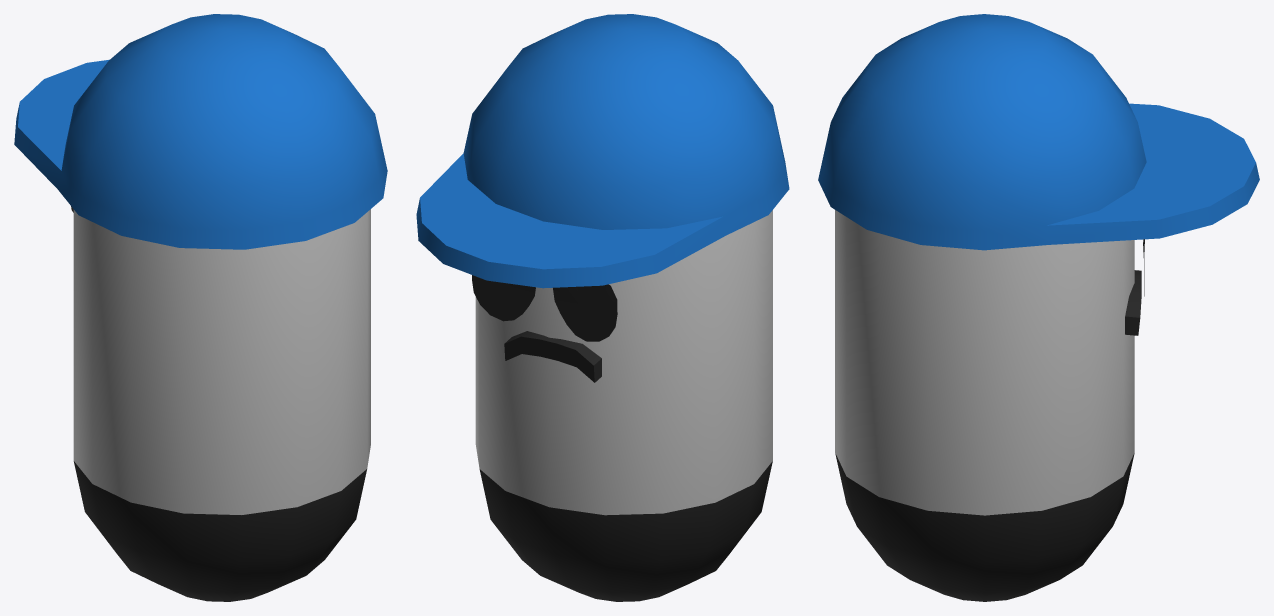
File: Guy.fbx
3 views of the same model, side by side, from view 1: azimuth 30°, elevation 25°; view 2: azimuth 150°, elevation 25°; view 3: azimuth 270°, elevation 25° (orthographic).
Visible parts, largest first — view 1: Capsule, Sphere; view 2: Capsule, Sphere, Disc, Cube; view 3: Capsule, Sphere, Cube.
Boxes of the visible parts, <box> form: Capsule: <box>73,209,370,601</box>; Sphere: <box>14,14,387,249</box>; Capsule: <box>475,210,772,601</box>; Sphere: <box>416,14,789,288</box>; Disc: <box>472,275,617,341</box>; Cube: <box>504,331,601,382</box>; Capsule: <box>835,210,1134,601</box>; Sphere: <box>818,14,1259,250</box>; Cube: <box>1125,270,1141,335</box>.
Size of the model in its own units: 111 by 206 by 147.
